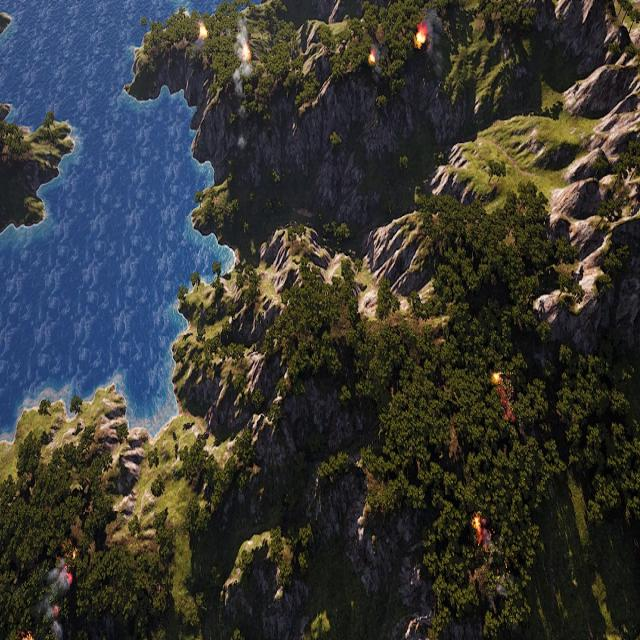fire: (494, 368, 515, 422), (470, 514, 485, 543), (415, 25, 427, 49), (242, 44, 250, 62), (200, 26, 208, 40), (371, 52, 377, 65)
smoke: (37, 560, 72, 640), (230, 19, 252, 102)
